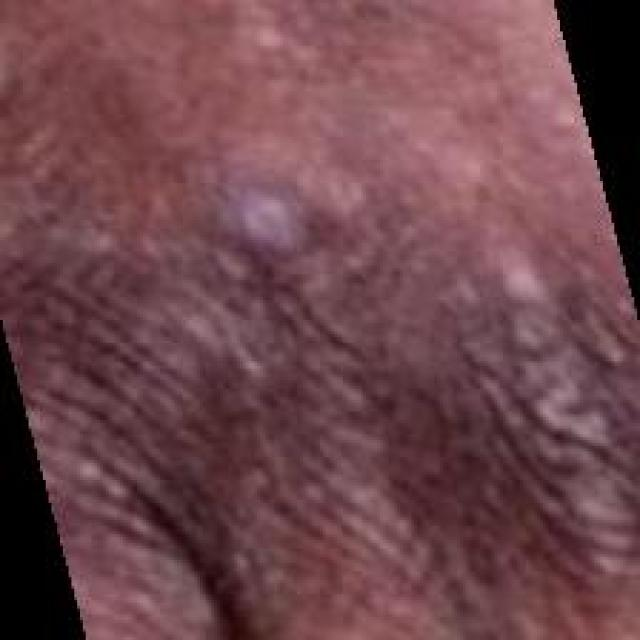monkeypox: (44, 99, 605, 640)
